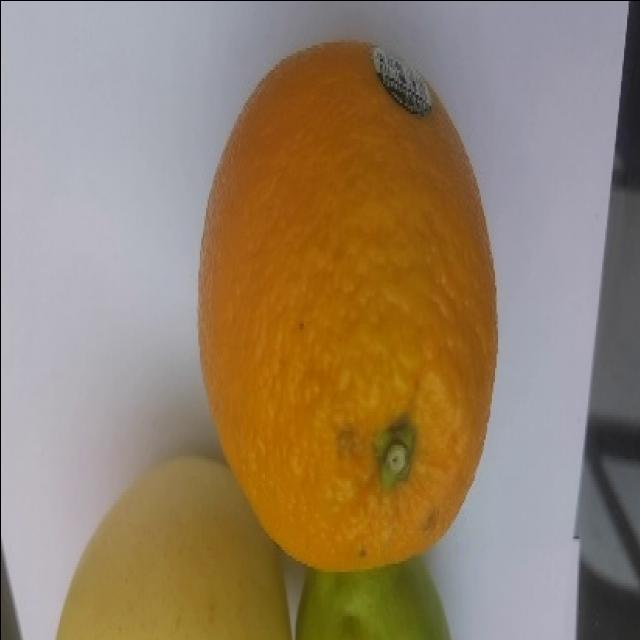Orange: (196, 38, 498, 572)
